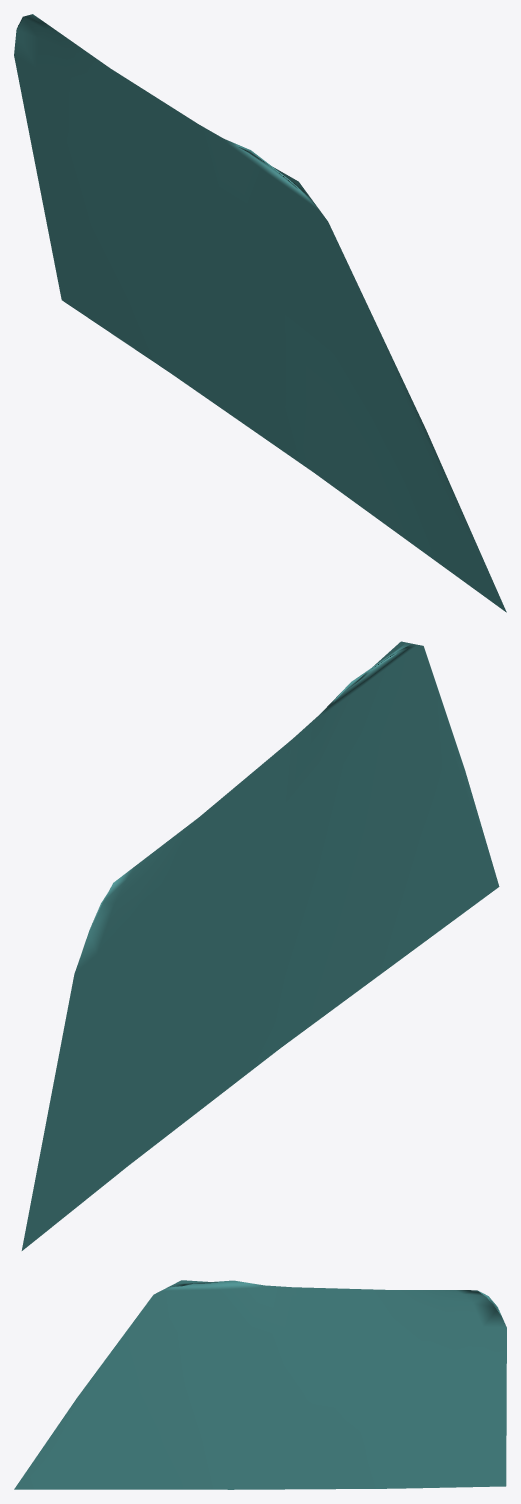
Rendered from Classic_2_Glass_FL_Tesselated.fbx.
3 views of the same model, one above another, from view 1: azimuth 30°, elevation 25°; view 2: azimuth 150°, elevation 25°; view 3: azimuth 270°, elevation 25° (orthographic). The views are drawn at different scales.
Parts seen in each view (by area): view 1: Classic_2_Glass_FL_Tesselated; view 2: Classic_2_Glass_FL_Tesselated; view 3: Classic_2_Glass_FL_Tesselated.
Part boxes in pixels (x1,y1,x2,y2): Classic_2_Glass_FL_Tesselated: (14, 14, 506, 612); Classic_2_Glass_FL_Tesselated: (21, 641, 499, 1250); Classic_2_Glass_FL_Tesselated: (14, 1280, 506, 1489).
Bounding box in the file's own units: 16.94 × 80.85 × 187.
